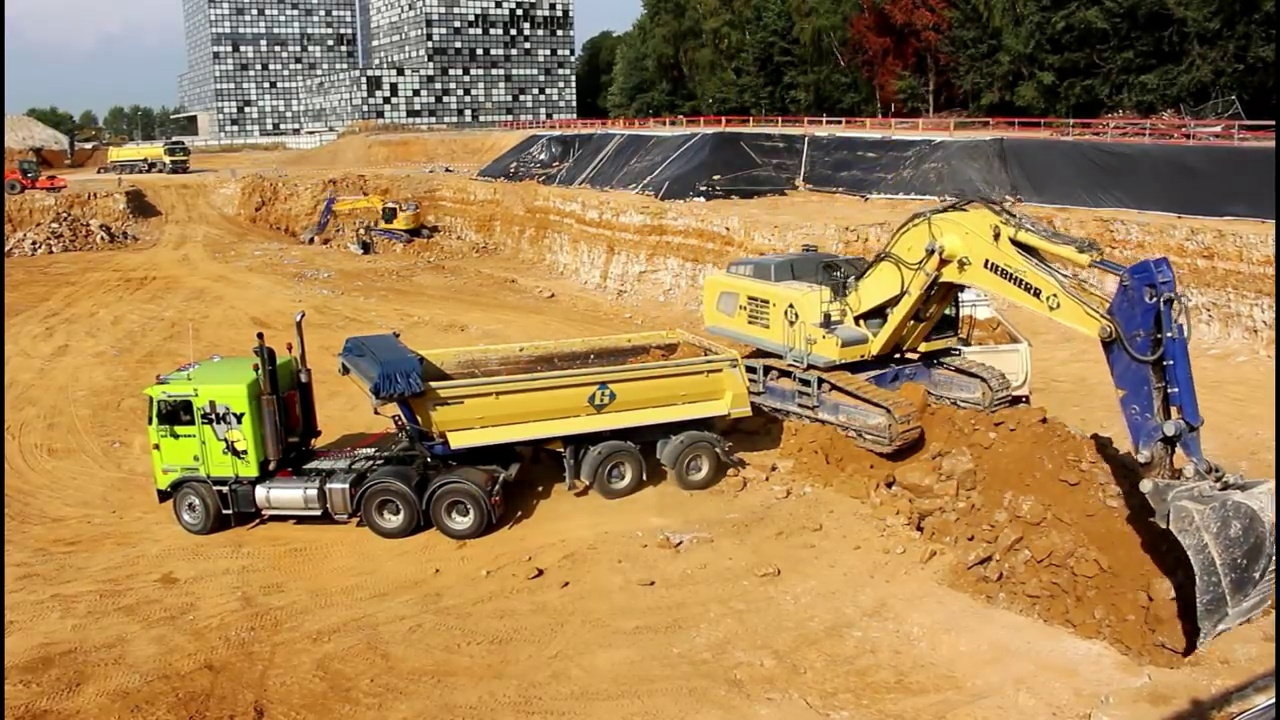compactor: (4, 157, 73, 199)
excavator: (694, 195, 1280, 666), (305, 188, 440, 258), (67, 123, 129, 154)
truck: (137, 306, 763, 547), (885, 271, 1039, 431), (105, 141, 195, 179)
